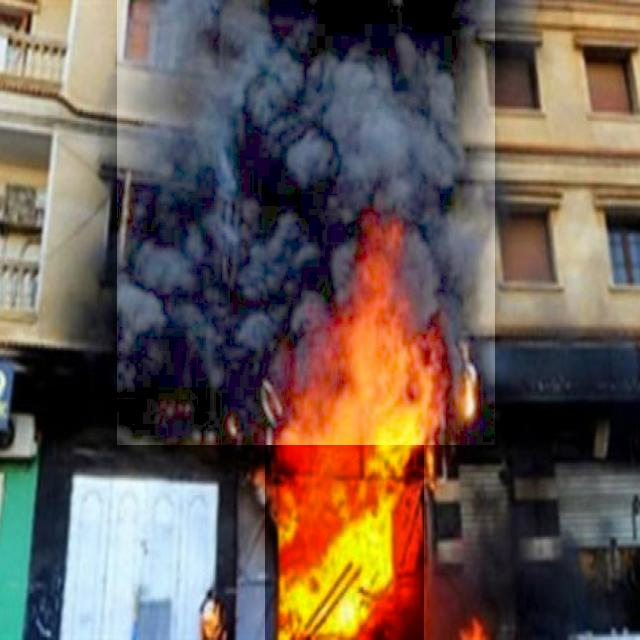Fire: (265, 215, 424, 640)
Smoke: (117, 0, 495, 445)
